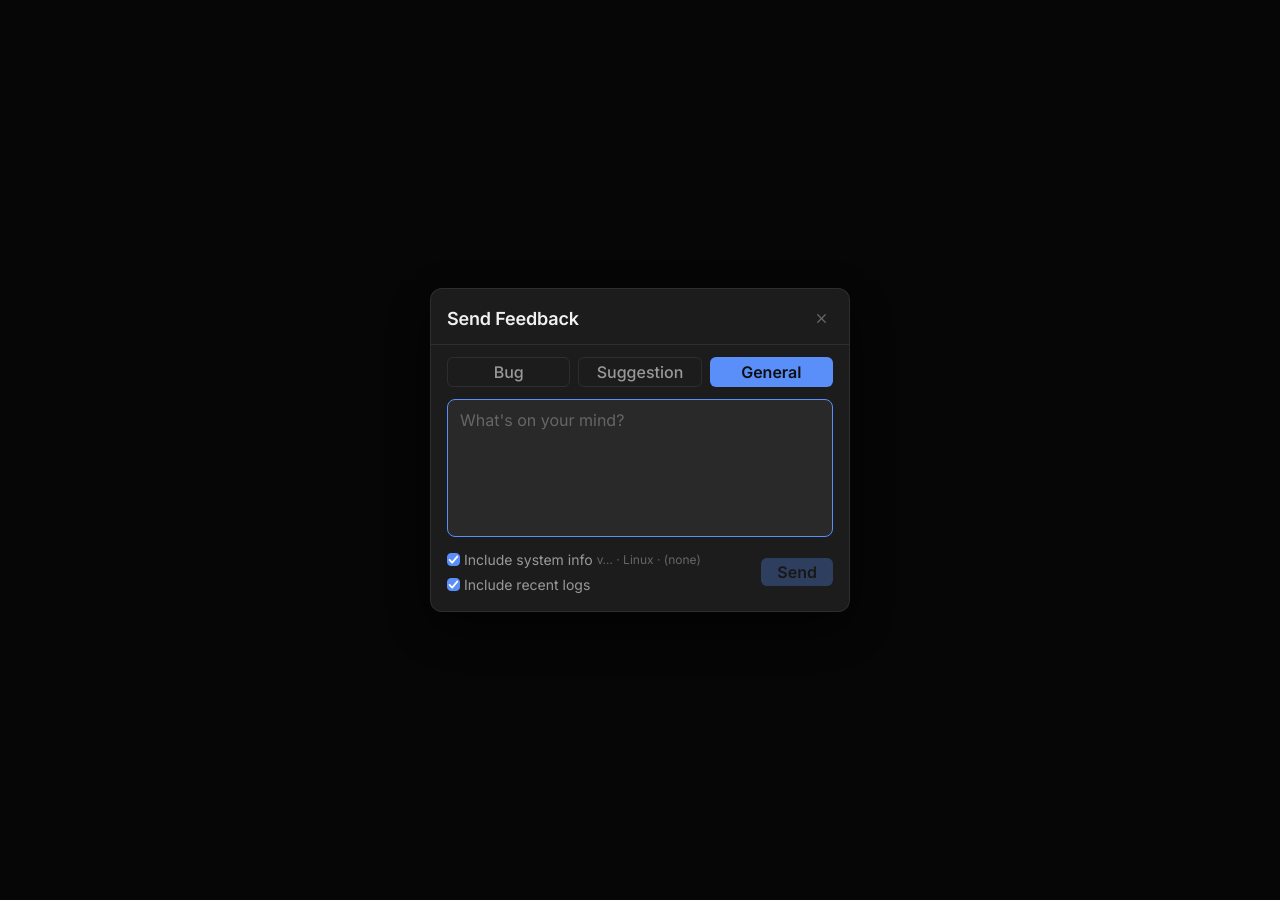
FeedbackModal › does not close a later report once this one was closed by hand
Type "Love it" into the text box with class "feedback-textarea" at [640, 468], box [447,399,833,537]
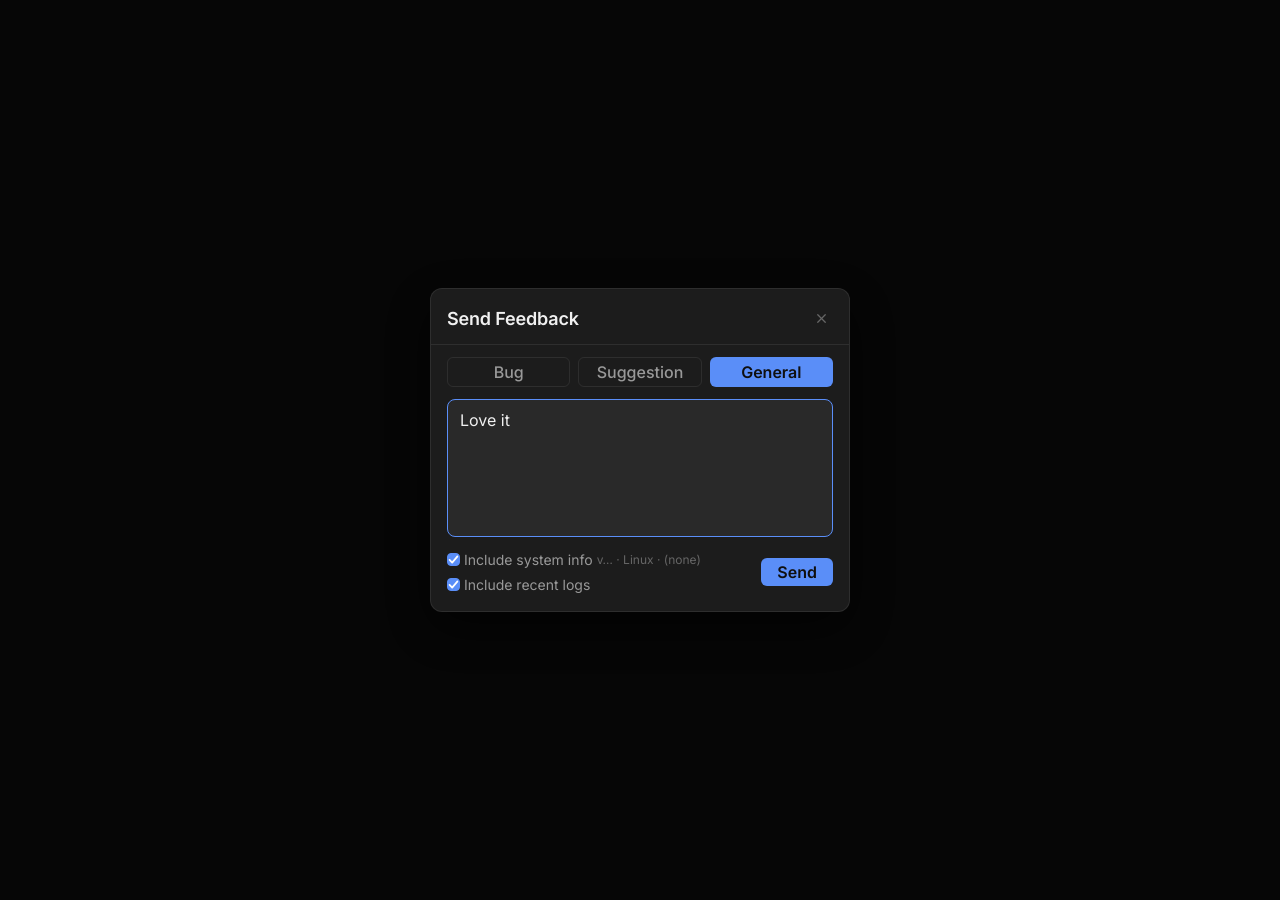
Click the button "Send" at [797, 572], box [761,558,833,586]
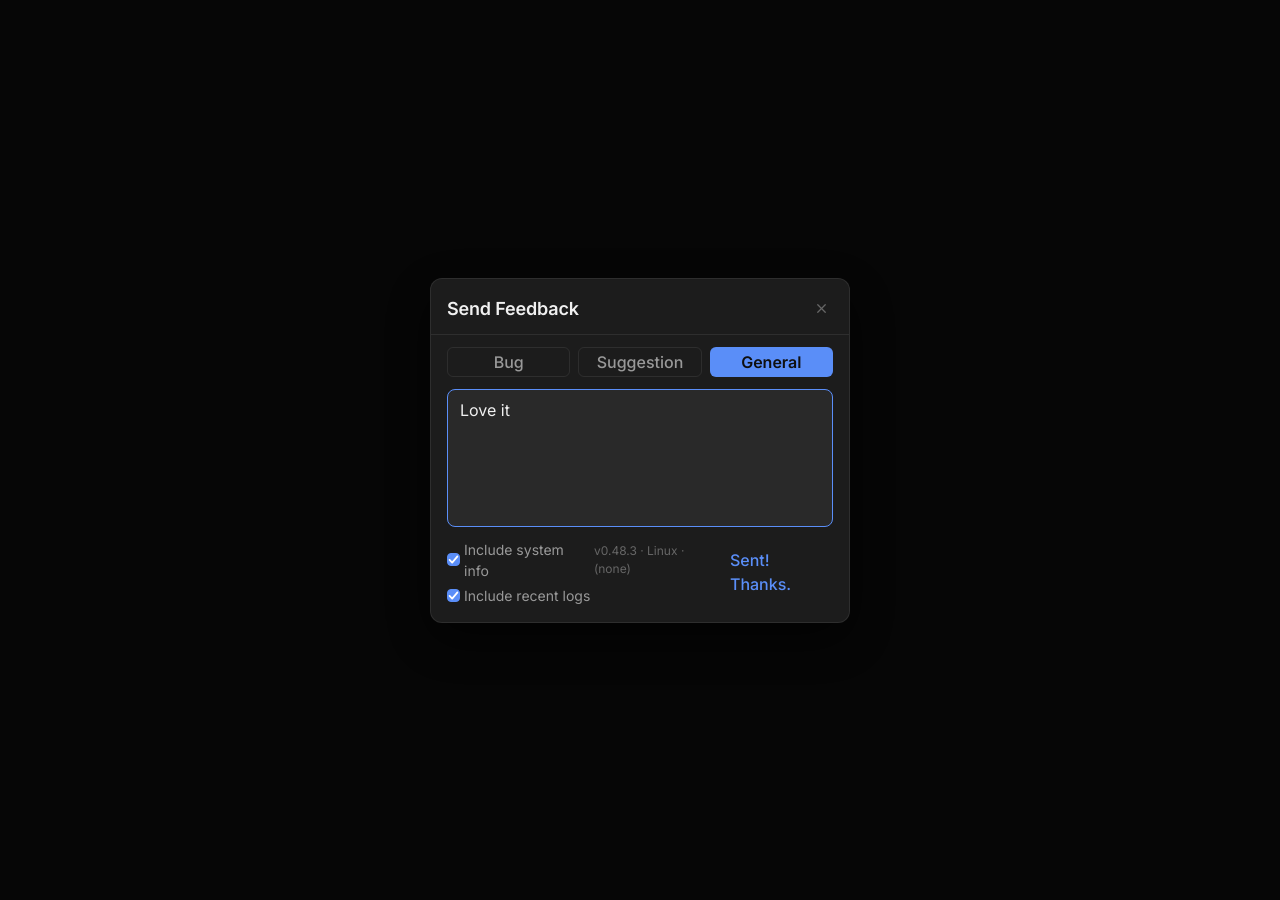
Now the text "Sent! Thanks." is shown, box [730,550,791,594]
